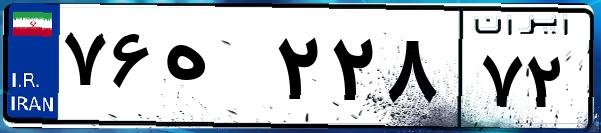2: (270, 28, 330, 110), (330, 28, 385, 110), (525, 38, 570, 115)
6: (110, 28, 158, 98)
7: (57, 26, 110, 100), (475, 38, 525, 113)
8: (385, 28, 445, 110)
ه: (158, 20, 270, 120)
